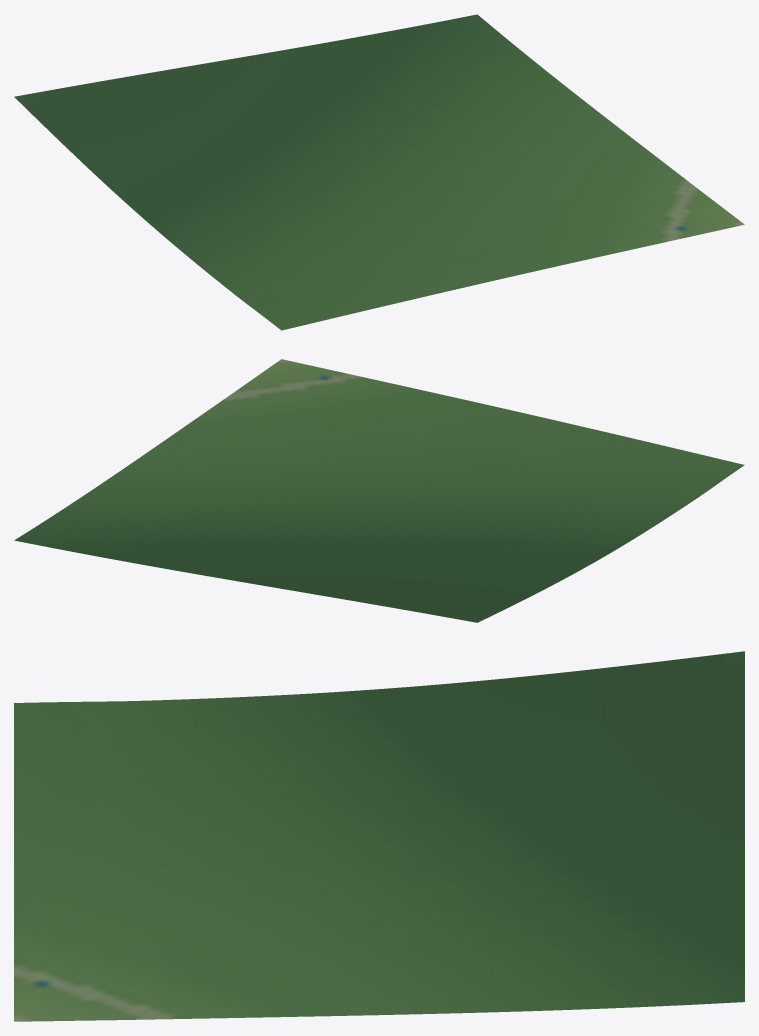
File: terrain_T_E01_N04.glb
3 views of the same model, one above another, from view 1: azimuth 30°, elevation 25°; view 2: azimuth 150°, elevation 25°; view 3: azimuth 270°, elevation 25° (orthographic). The views are drawn at different scales.
Visible parts, largest first — view 1: Terrain_T_E01_N04; view 2: Terrain_T_E01_N04; view 3: Terrain_T_E01_N04.
Part boxes in pixels (x1=…): Terrain_T_E01_N04: x1=14, y1=14, x2=744, y2=330; Terrain_T_E01_N04: x1=14, y1=359, x2=744, y2=622; Terrain_T_E01_N04: x1=14, y1=651, x2=744, y2=1021.
Size of the model in its own units: 2000 by 186 by 2000.
1 material, 1 textured.
